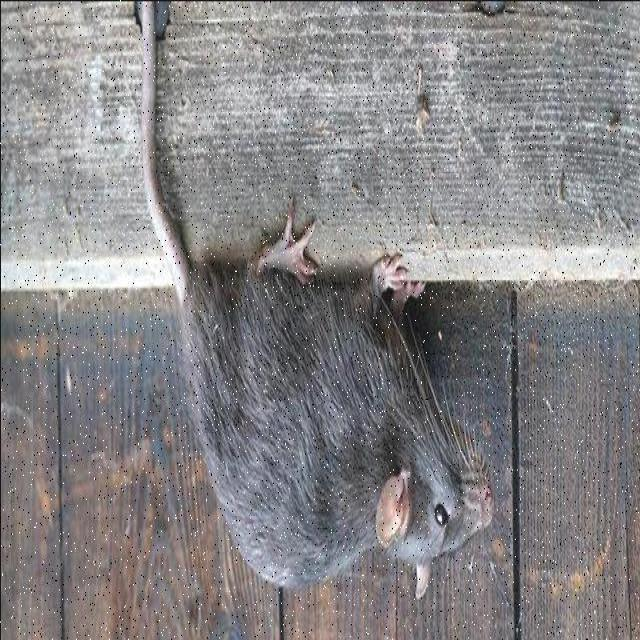rat: (122, 199, 503, 605)
